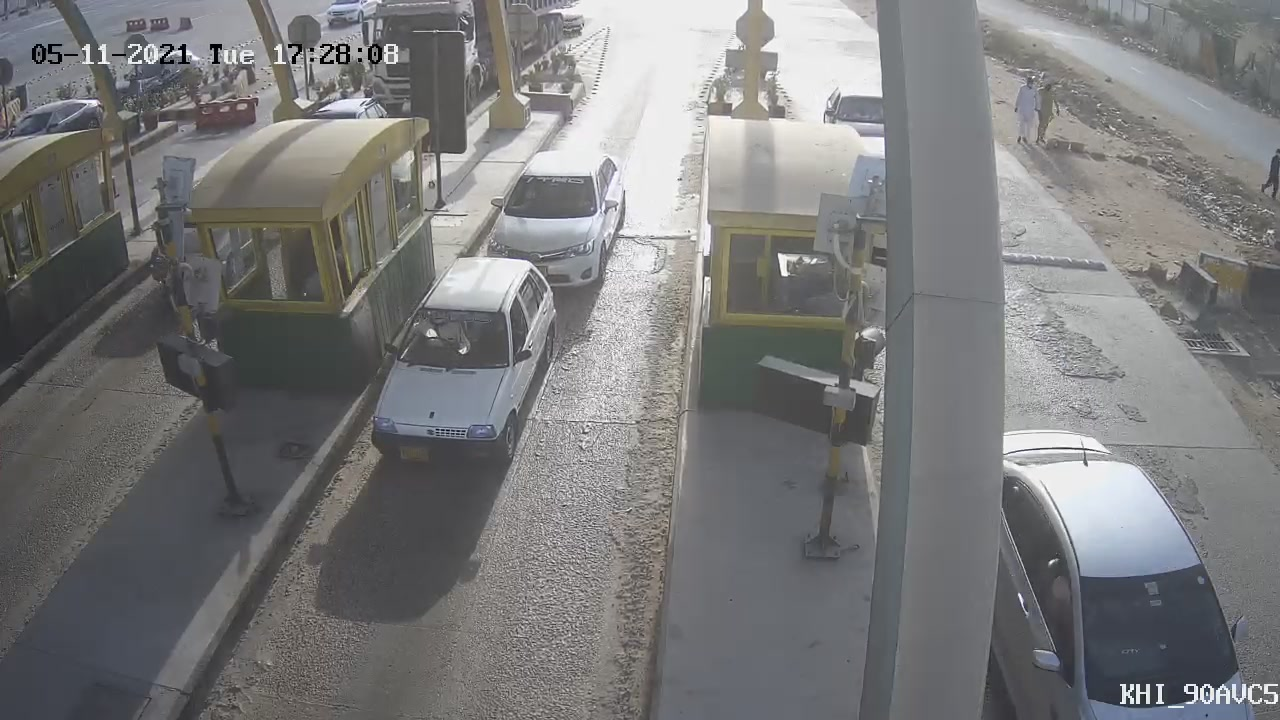F1: (355, 243, 572, 482), (473, 131, 641, 306)
